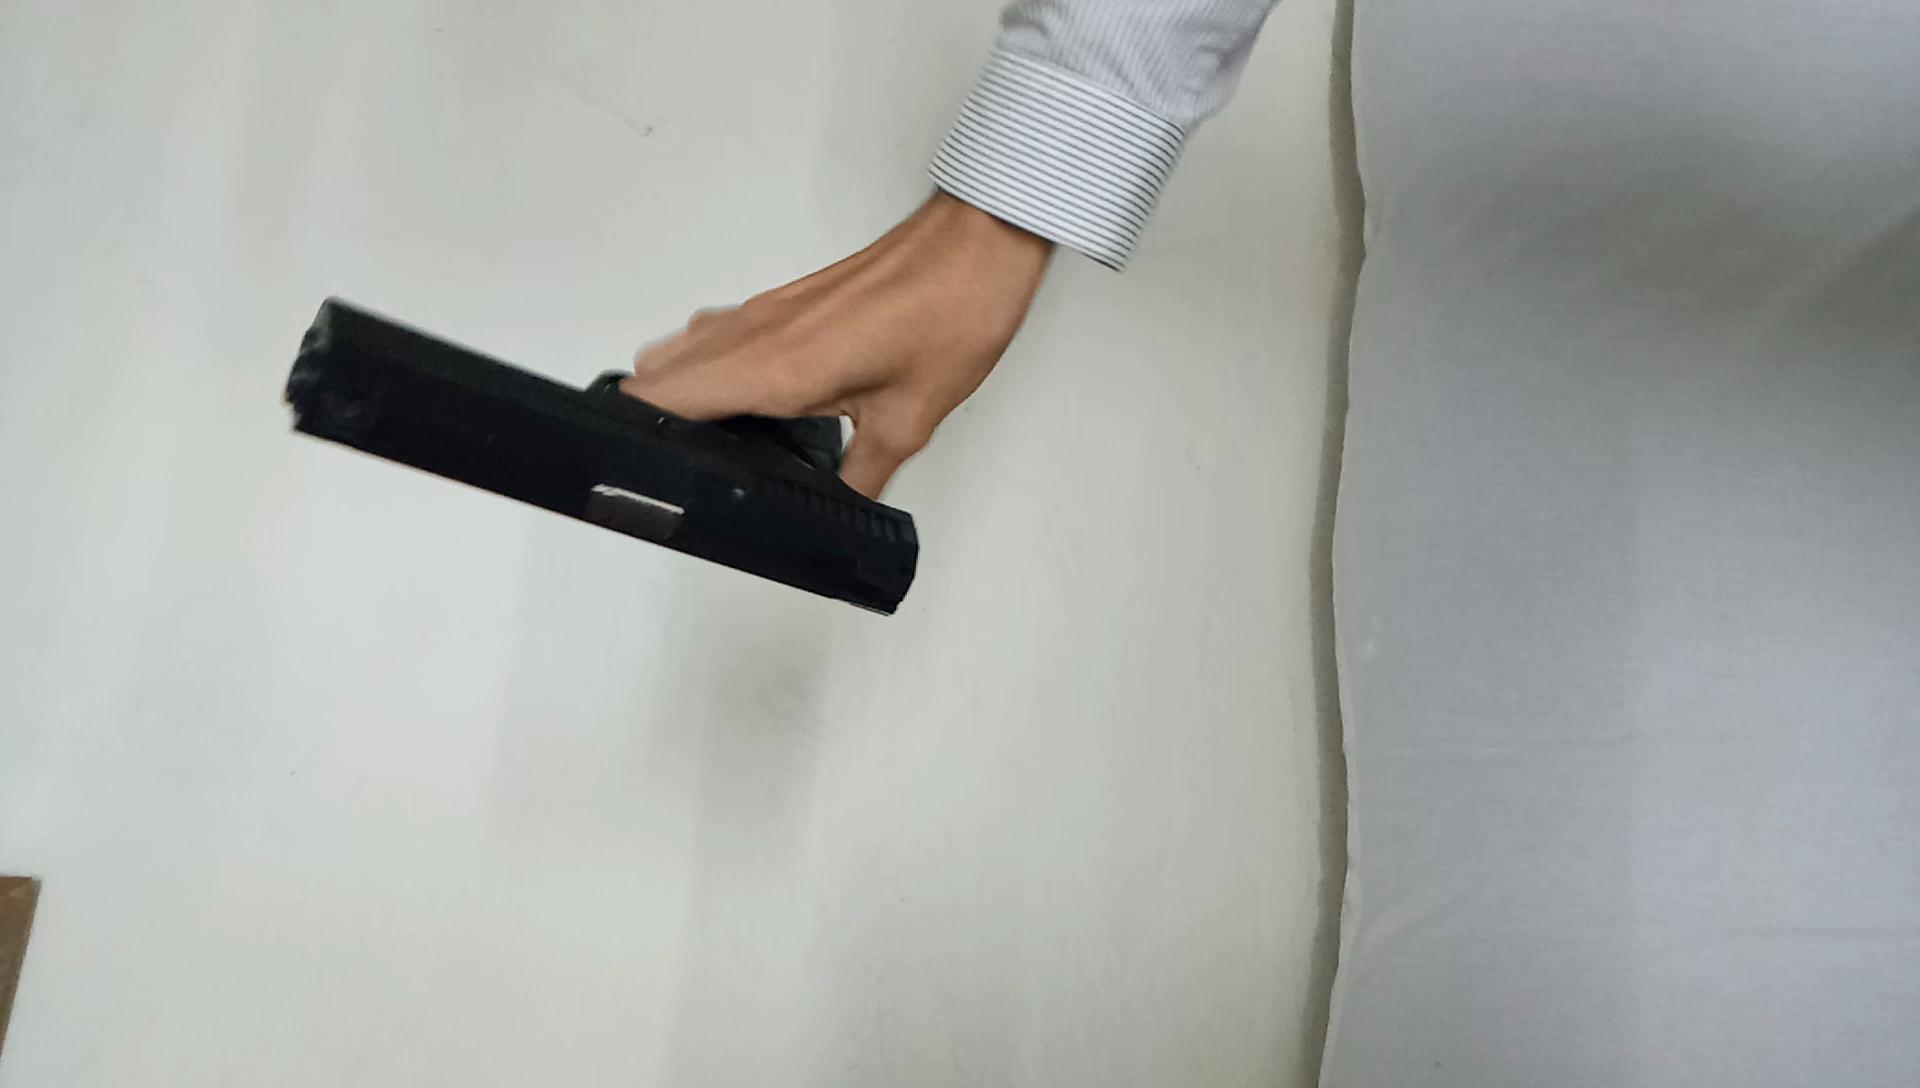weapon: (277, 286, 926, 629)
